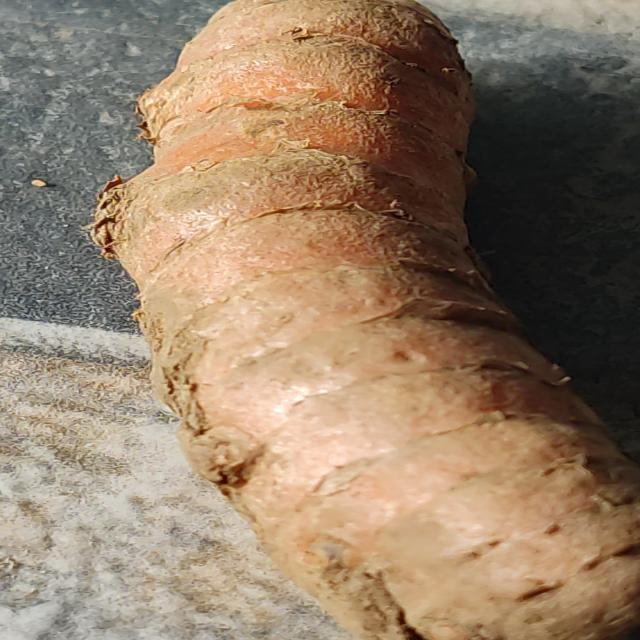ginger: (125, 0, 640, 640)
